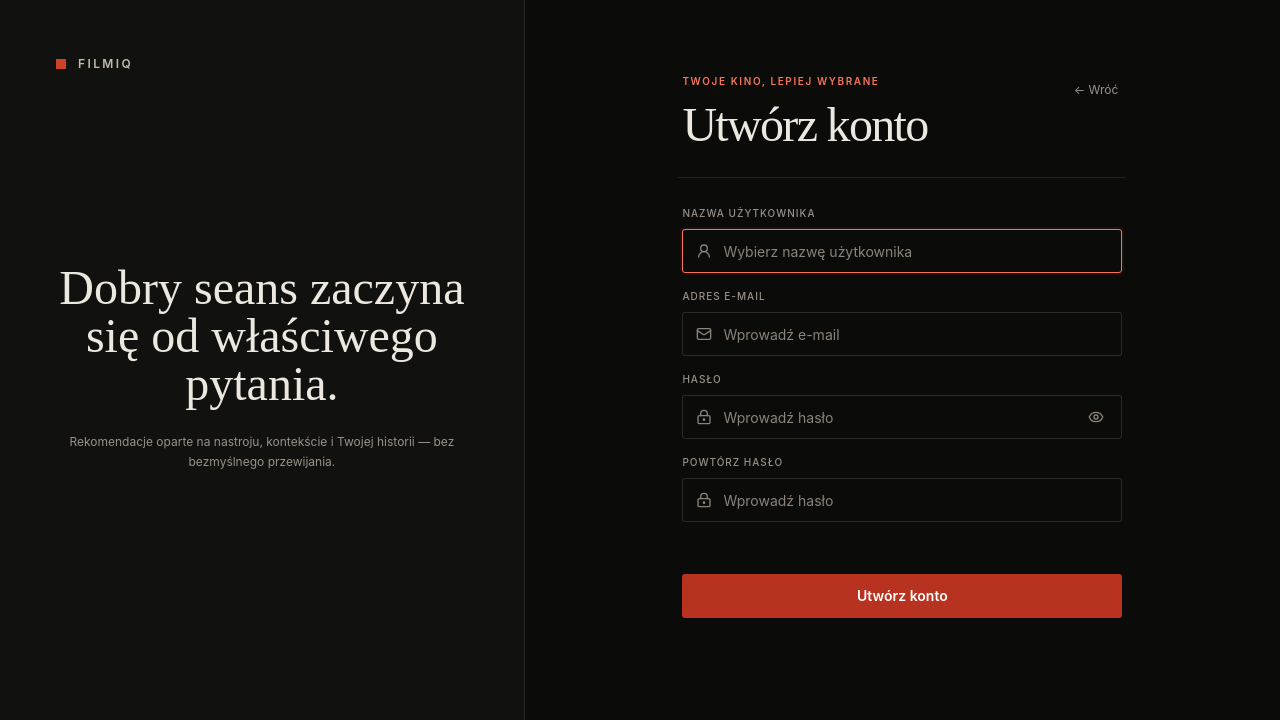
Test case: authentication views › checks password confirmation during registration
Type "tester" into the field labelled "Nazwa użytkownika".
click(902, 251); type("tester")  # box [682,229,1122,273]
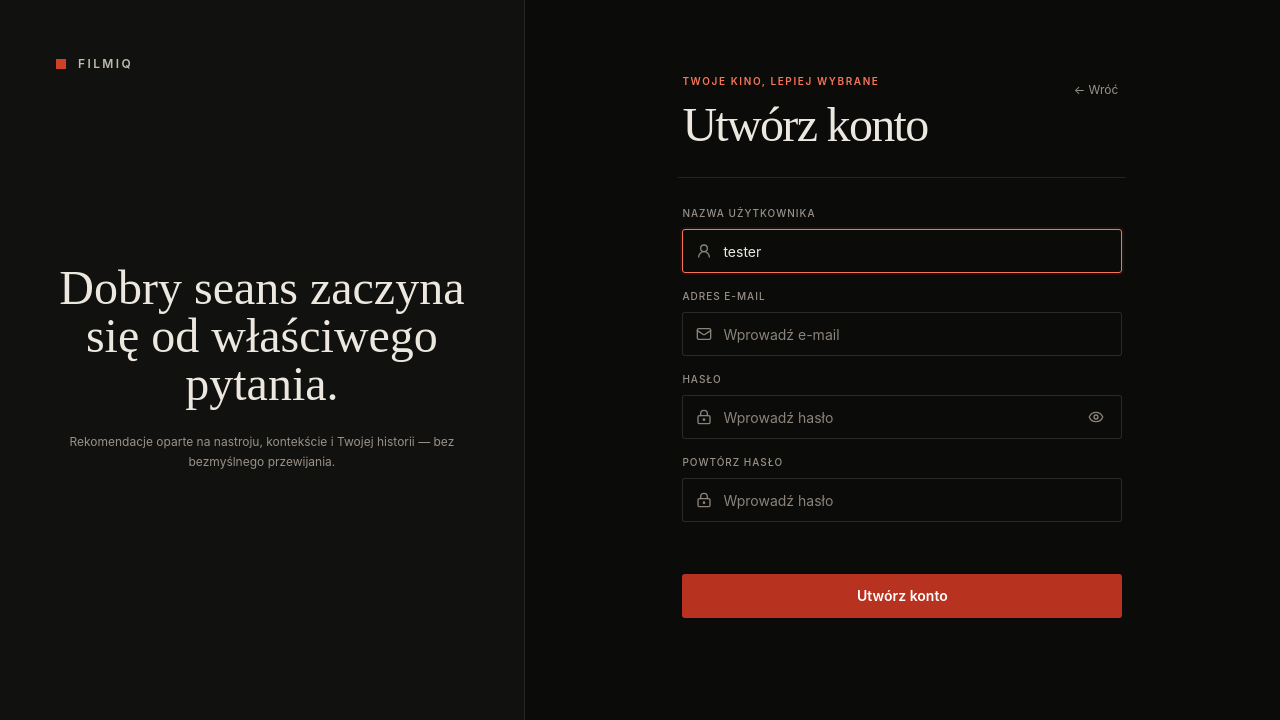
Type "tester@example.com" into the field labelled "Adres e-mail".
click(902, 334); type("tester@example.com")  # box [682,312,1122,356]
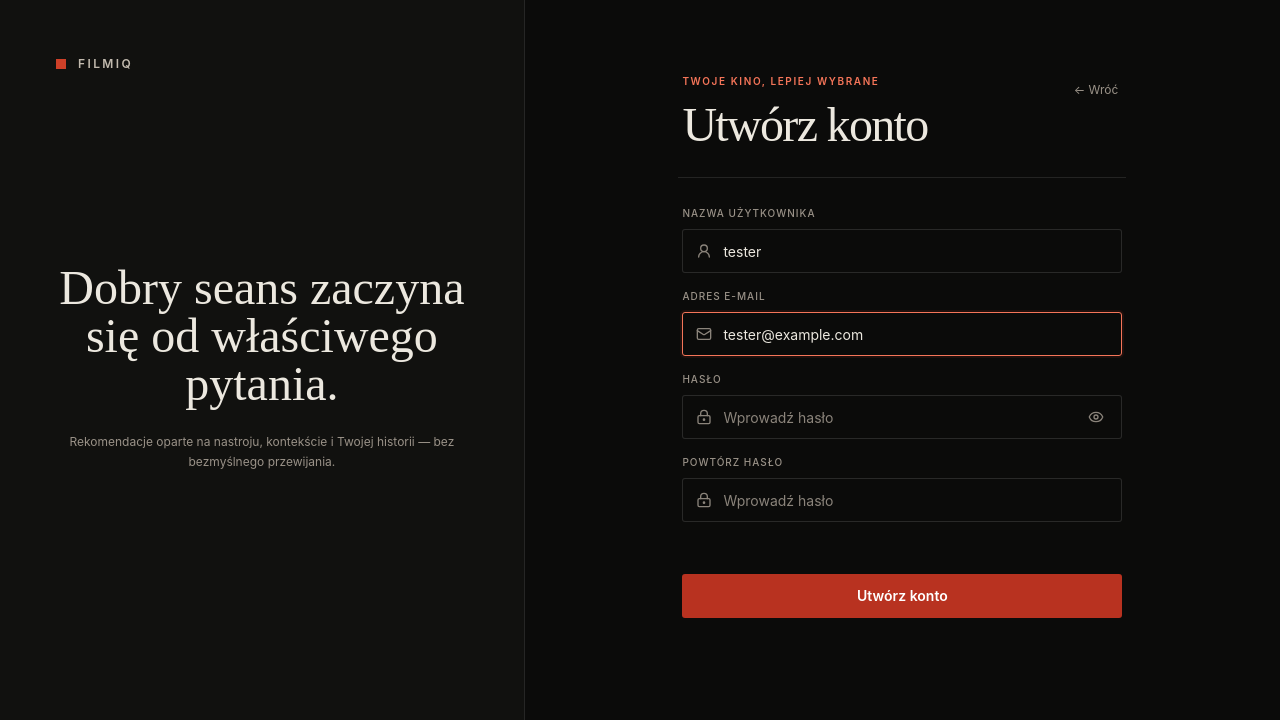
Type "haslo123" into the password field labelled "Hasło".
click(902, 417); type("haslo123")  # box [682,395,1122,439]
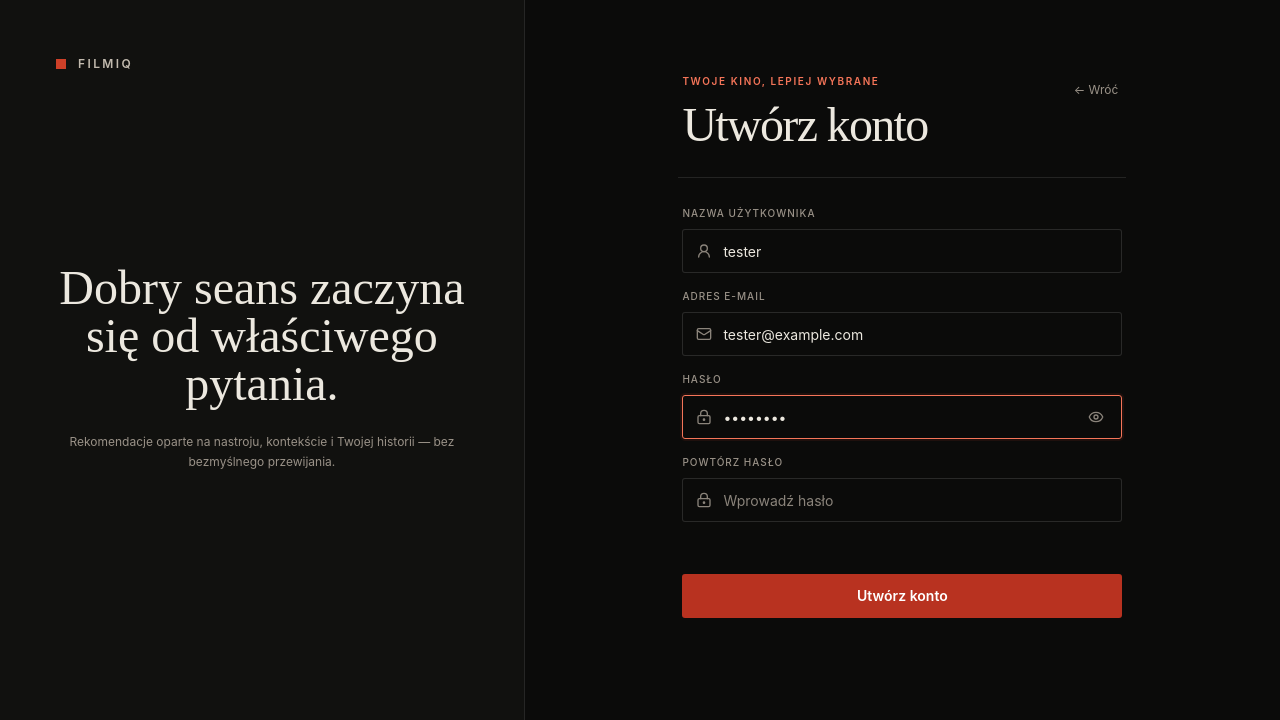
Type "innehaslo" into the password field labelled "Powtórz hasło".
click(902, 500); type("innehaslo")  # box [682,478,1122,522]
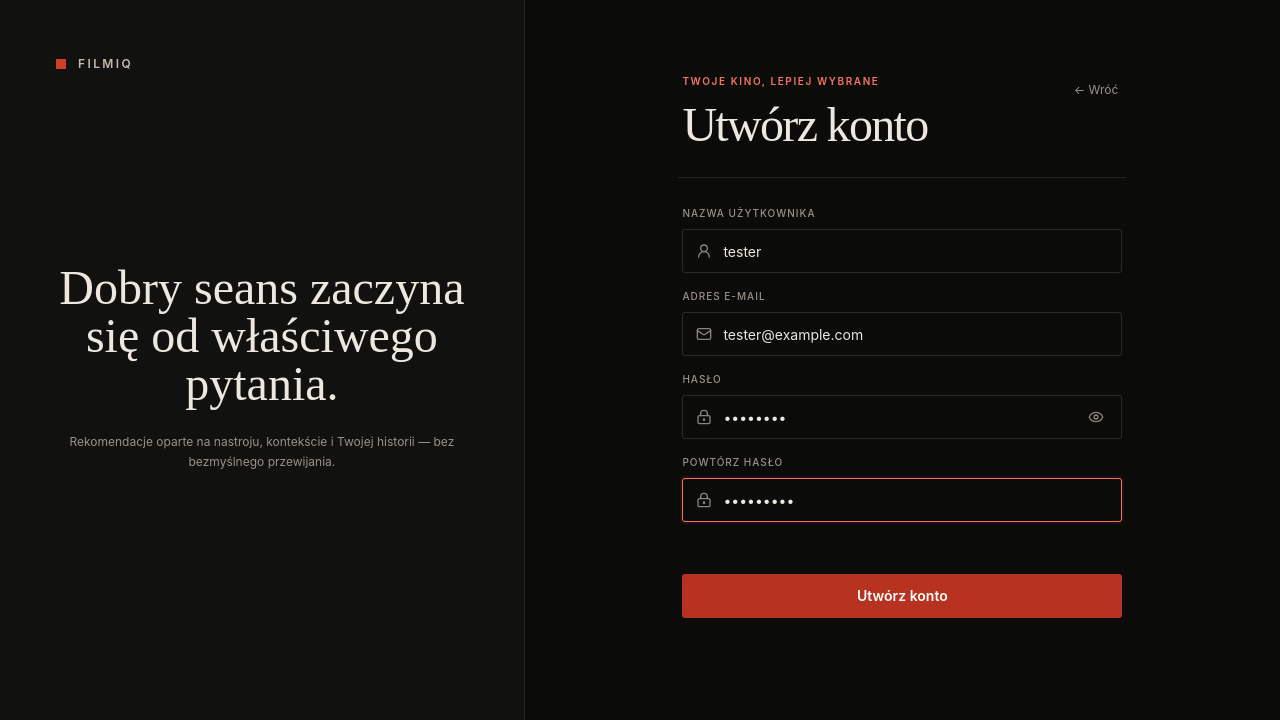
Click the button "Utwórz konto".
click(902, 596)  # box [682,574,1122,618]
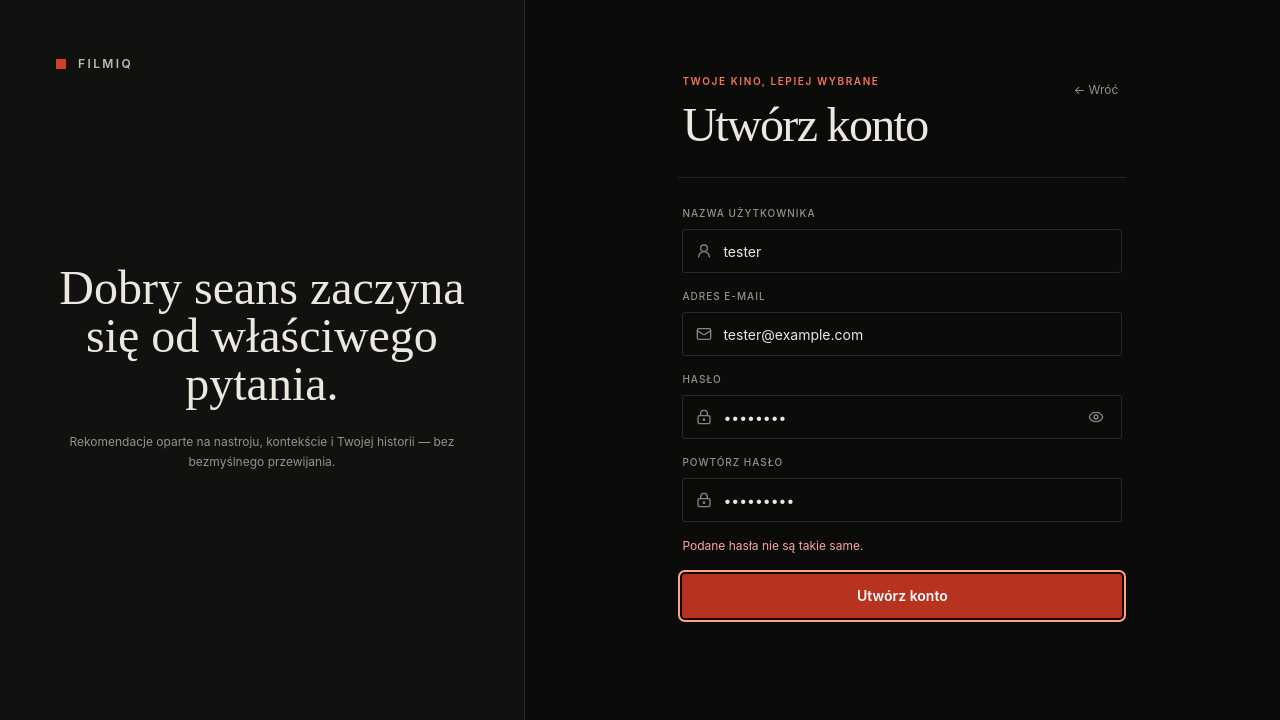
Expected: the text "Podane hasła nie są takie same." is shown, [682,538,863,553]
